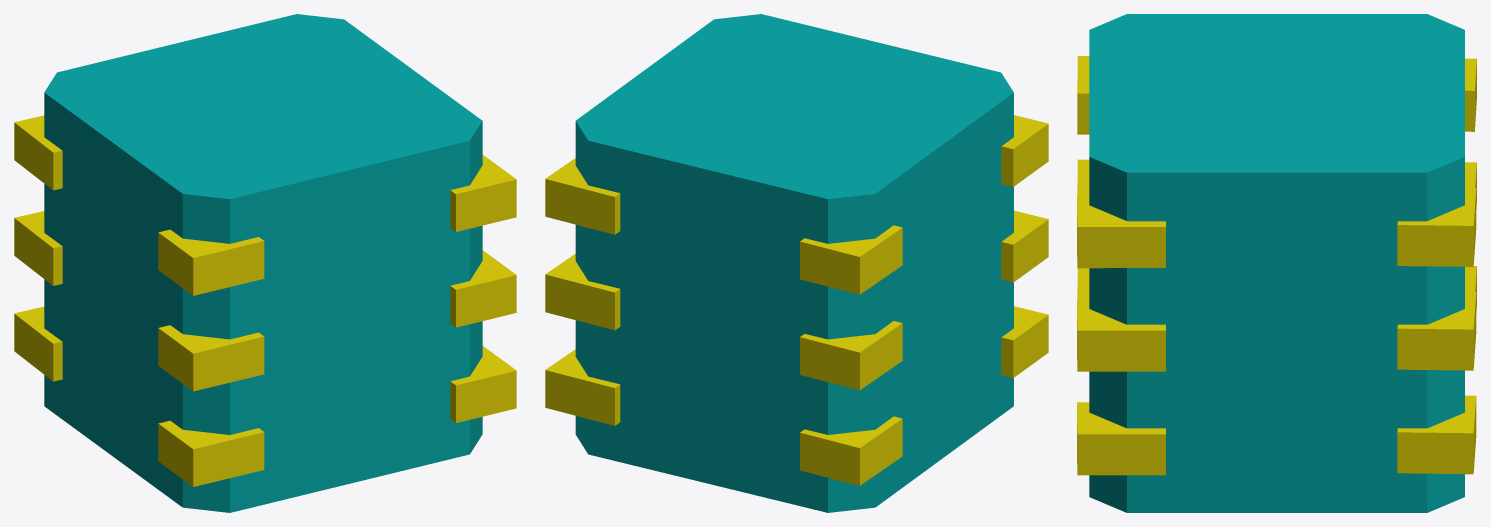
Rendered from 1Geneneric Center blueyellow.fbx.
The picture shows the model from 3 angles, left to right: view 1: azimuth 30°, elevation 25°; view 2: azimuth 150°, elevation 25°; view 3: azimuth 270°, elevation 25°; orthographic projection. The views are drawn at different scales.
Parts seen in each view (by area): view 1: pCube16; view 2: pCube16; view 3: pCube16.
Part boxes in pixels (x1,y1,x2,y2): pCube16: (14,14,516,512); pCube16: (545,14,1048,512); pCube16: (1077,14,1476,512).
Size of the model in its own units: 2.16 by 2 by 2.13.
